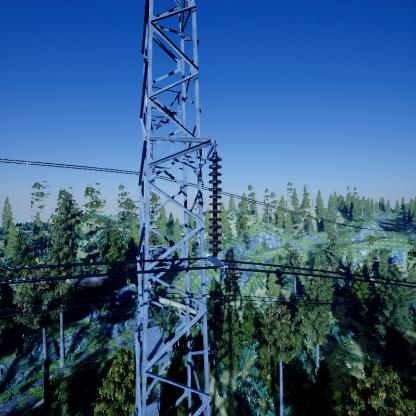insulator: (207, 153, 225, 256)
